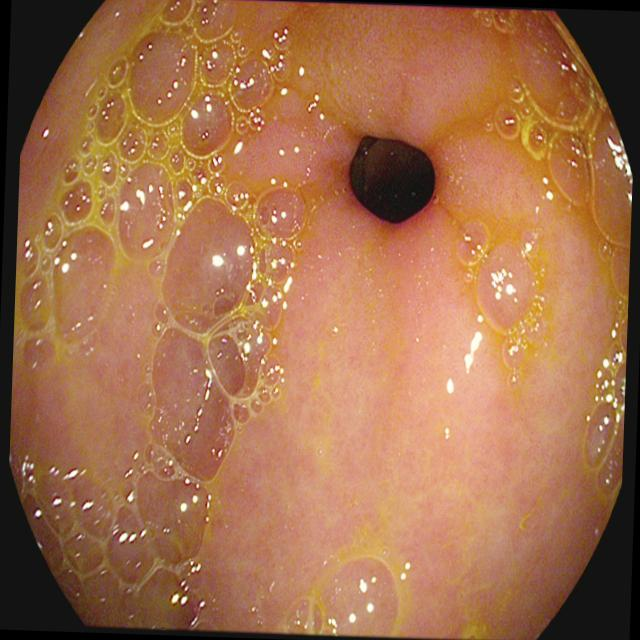normal-pylorus: (205, 7, 523, 249)
